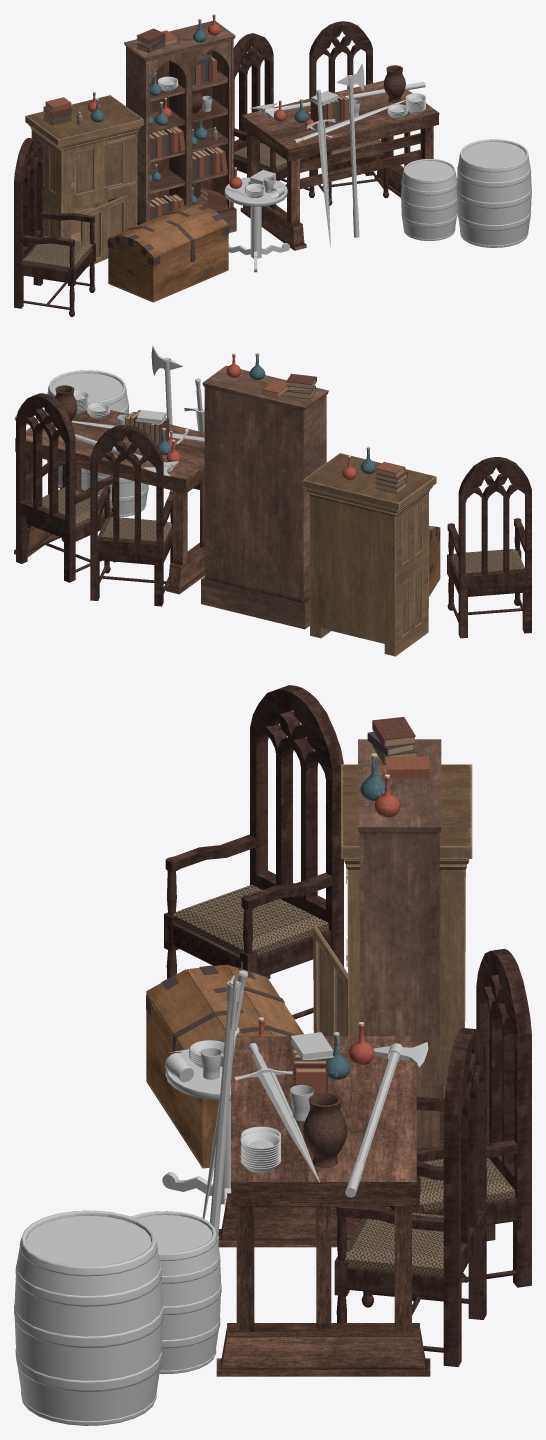
Rendered from Medieval furniture.fbx.
3 views of the same model, one above another, from view 1: azimuth 30°, elevation 25°; view 2: azimuth 150°, elevation 25°; view 3: azimuth 270°, elevation 25° (orthographic). The views are drawn at different scales.
Parts seen in each view (by area): view 1: Table 1 lowpoly002, Plane010 (×3), Box007, Box005, Box006, Cylinder083, shell1, Cylinder099, silver band1, Box075 (×2), door002, lid piece 1 (+22 smaller); view 2: Box005, Table 1 lowpoly002, Plane010 (×3), Box007, Box075 (×3), Box071 (×3), lid004, Box010, Cylinder099, silver band1, vase lowpoly, Box006 (+3 smaller); view 3: Plane010 (×3), Box007, Box005, Cylinder083, Table 1 lowpoly002, Box075 (×3), Box011, silver band1, Box071 (×3), Cylinder099, lid004, Box006 (+16 smaller).
Part boxes in pixels (bbox=[...]): Table 1 lowpoly002: bbox=[25, 95, 143, 241]; Plane010 (×3): bbox=[14, 21, 372, 308]; Box007: bbox=[241, 80, 439, 224]; Box005: bbox=[124, 21, 236, 232]; Box006: bbox=[108, 230, 228, 302]; Cylinder083: bbox=[456, 158, 531, 245]; shell1: bbox=[145, 41, 231, 222]; Cylinder099: bbox=[401, 173, 457, 239]; silver band1: bbox=[456, 139, 531, 247]; Box075 (×2): bbox=[22, 142, 286, 270]; door002: bbox=[81, 195, 127, 267]; lid piece 1: bbox=[138, 210, 228, 258]; Box005: bbox=[201, 365, 328, 629]; Table 1 lowpoly002: bbox=[302, 453, 436, 656]; Plane010 (×3): bbox=[16, 393, 531, 638]; Box007: bbox=[15, 410, 204, 565]; Box075 (×3): bbox=[32, 487, 524, 576]; Box071 (×3): bbox=[26, 511, 522, 596]; lid004: bbox=[51, 373, 122, 401]; Box010: bbox=[165, 543, 204, 594]; Cylinder099: bbox=[85, 469, 148, 517]; silver band1: bbox=[47, 370, 129, 487]; vase lowpoly: bbox=[55, 385, 77, 422]; Box006: bbox=[429, 538, 440, 596]; Plane010 (×3): bbox=[250, 685, 531, 1366]; Box007: bbox=[231, 1036, 416, 1331]; Box005: bbox=[358, 739, 443, 1148]; Cylinder083: bbox=[14, 1247, 162, 1421]; Table 1 lowpoly002: bbox=[341, 764, 472, 1097]; Box075 (×3): bbox=[173, 884, 515, 1275]; Box011: bbox=[216, 1323, 430, 1376]; silver band1: bbox=[14, 1210, 163, 1425]; Box071 (×3): bbox=[172, 923, 516, 1298]; Cylinder099: bbox=[160, 1240, 220, 1372]; lid004: bbox=[26, 1216, 151, 1265]; Box006: bbox=[146, 1009, 219, 1168].
Bounding box in the file's own units: 32.25 × 14.21 × 15.55.
